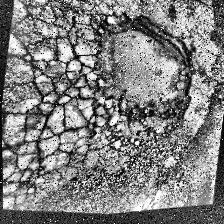pothole: (93, 7, 205, 134)
